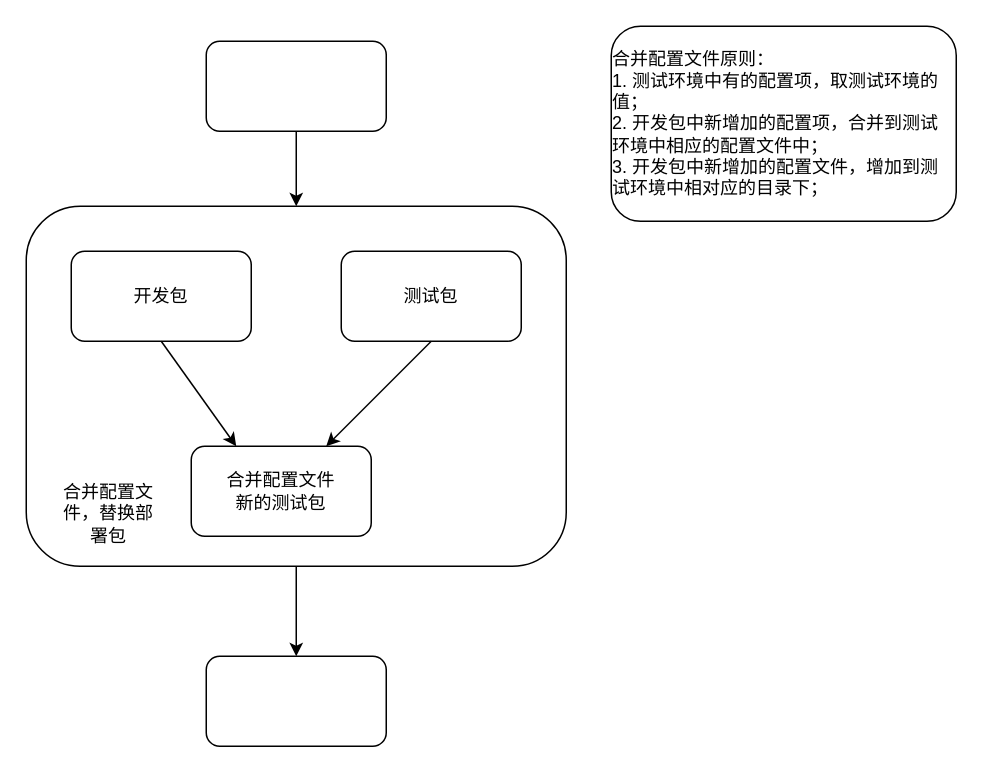
Image size: 983x773. Some labels were removed from this diagram. Each missing label, with the centre of its shape:
测试环境机器停止服务: the point at 295,85
重启测试环境服务: the point at 295,700
